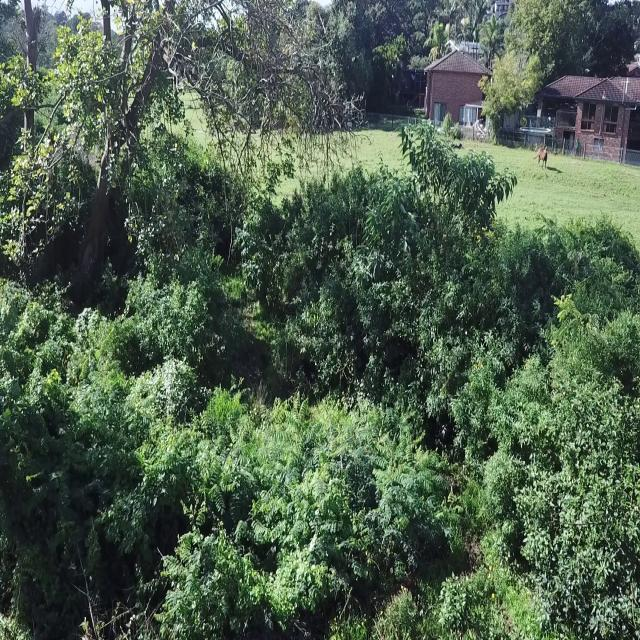Mysore-Thorn-Weed: (154, 494, 265, 640), (238, 480, 331, 609), (352, 408, 447, 533), (137, 412, 240, 524), (60, 323, 132, 437), (256, 392, 328, 487), (338, 504, 383, 592), (545, 277, 600, 345), (198, 379, 252, 440), (526, 207, 569, 249)
